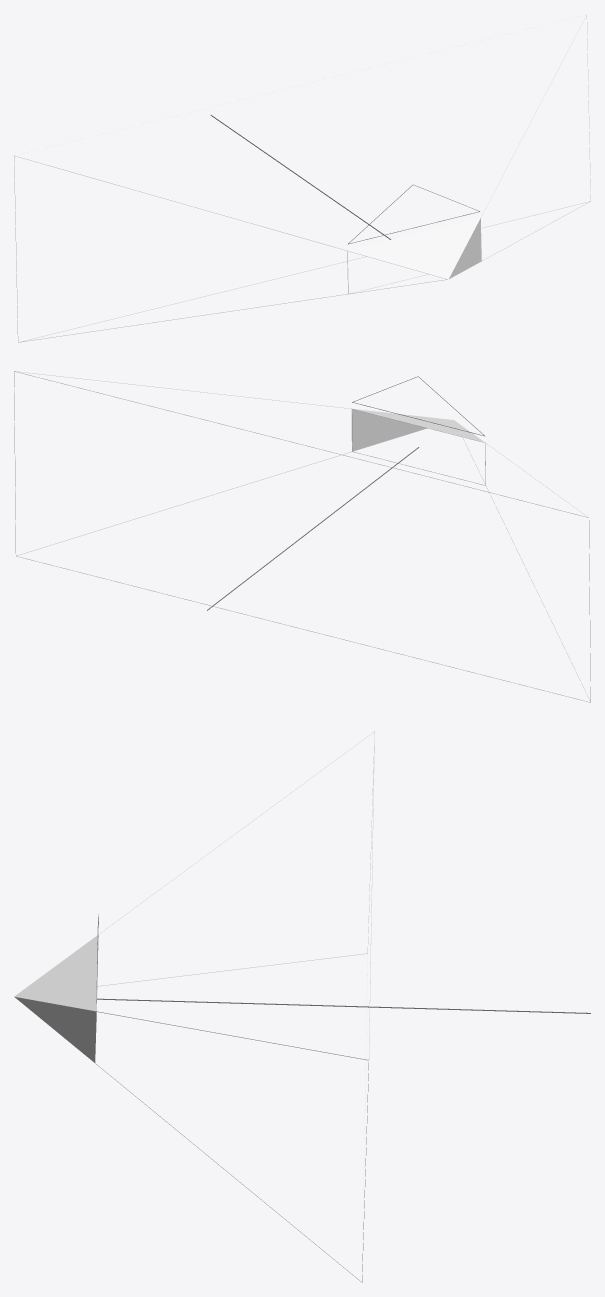
File: câmer@!@@@@a.fbx
The picture shows the model from 3 angles, top to bottom: view 1: azimuth 30°, elevation 25°; view 2: azimuth 150°, elevation 25°; view 3: azimuth 270°, elevation 25°; orthographic projection. The views are drawn at different scales.
Parts seen in each view (by area): view 1: node_id8 (×2); view 2: node_id8 (×2); view 3: node_id8 (×3).
Boxes of the visible parts, x1,y1,x2,y2 form: node_id8 (×2): [14, 14, 590, 342]; node_id8 (×2): [14, 371, 590, 702]; node_id8 (×3): [14, 731, 590, 1282].
Size of the model in its own units: 0.5804 by 0.1834 by 0.4234.
Materials: 4 (2 with a texture image).
